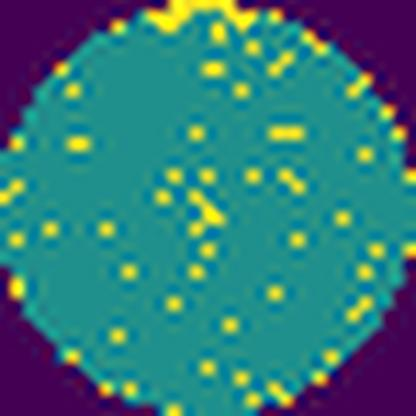Edge-Loc: (137, 0, 260, 34)
